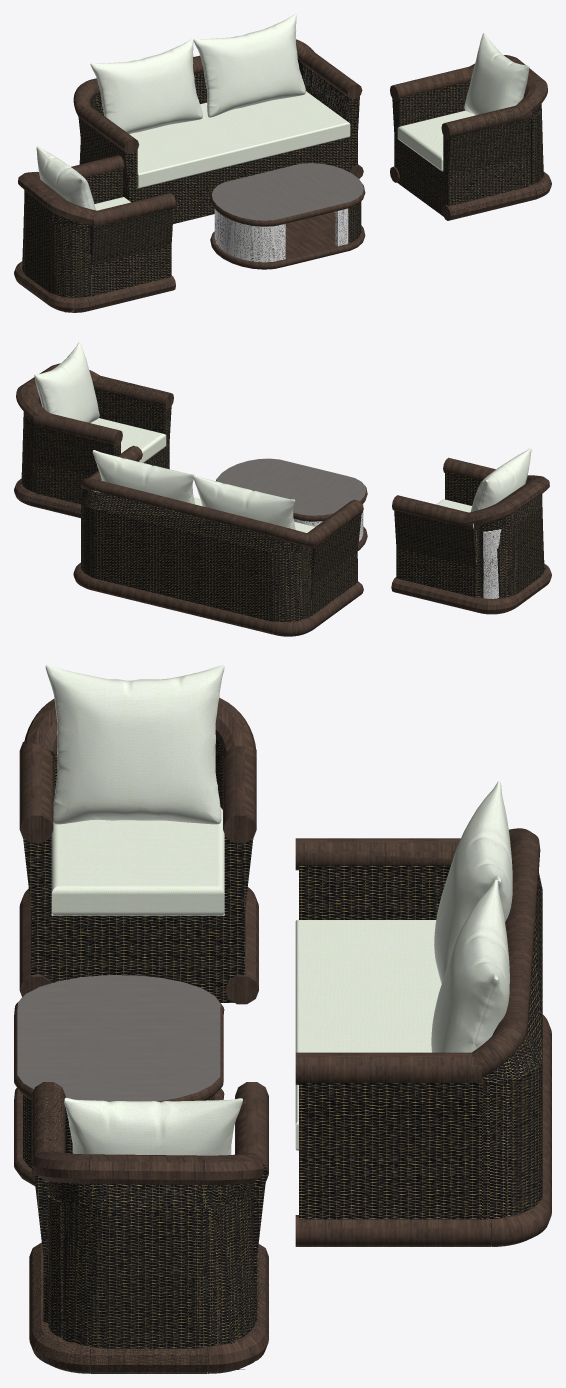
Rendered from furniture 9.dae.
The picture shows the model from 3 angles, top to bottom: view 1: azimuth 30°, elevation 25°; view 2: azimuth 150°, elevation 25°; view 3: azimuth 270°, elevation 25°; orthographic projection. The views are drawn at different scales.
Visible parts, largest first — view 1: Component_4 (×4), group_7 (×6), group_9 (×4), group_1 (×3), Component_3, group_4 (×4), group_6, group_5, Component_2, group_8 (×2), group_10, group_3; view 2: group_1 (×2), group_7 (×5), group_9 (×5), Component_4 (×4), group_6, group_4, group_2 (×3), group_3 (×2), group_8 (×2), Component_2, group_10; view 3: group_1 (×3), Component_4 (×4), group_9 (×7), group_7 (×4), group_6, group_4 (×2), Component_3, Component_2, group_2 (×3), group_10 (×3), group_3 (×2), group_8 (×2) (+1 smaller).
Boxes of the visible parts, box(x1,y1,x2,y2) form: Component_4 (×4): box(36, 14, 529, 210); group_7 (×6): box(14, 155, 175, 312); group_9 (×4): box(390, 66, 551, 220); group_1 (×3): box(77, 51, 362, 223); Component_3: box(129, 91, 350, 188); group_4 (×4): box(212, 163, 363, 262); group_6: box(210, 163, 365, 226); group_5: box(210, 212, 365, 269); Component_2: box(397, 110, 474, 171); group_8 (×2): box(20, 177, 97, 224); group_10: box(516, 79, 547, 115); group_3: box(73, 79, 98, 113); group_1 (×2): box(81, 461, 363, 621); group_7 (×5): box(391, 457, 547, 614); group_9 (×5): box(20, 375, 173, 517); Component_4 (×4): box(34, 342, 531, 529); group_6: box(216, 459, 367, 521); group_4: box(216, 458, 365, 515); group_2 (×3): box(89, 577, 363, 636); group_3 (×2): box(95, 480, 316, 547); group_8 (×2): box(463, 480, 546, 526); Component_2: box(90, 418, 166, 462); group_10: box(16, 385, 48, 419); group_1 (×3): box(295, 838, 542, 1228); Component_4 (×4): box(45, 665, 512, 1155); group_9 (×7): box(29, 1082, 268, 1373); group_7 (×4): box(19, 738, 258, 1004); group_6: box(14, 975, 224, 1110); group_4 (×2): box(17, 975, 220, 1167); Component_3: box(295, 920, 441, 1150); Component_2: box(51, 807, 224, 915); group_2 (×3): box(295, 1022, 551, 1246); group_10 (×3): box(32, 1151, 264, 1184); group_3 (×2): box(468, 837, 540, 1078); group_8 (×2): box(24, 698, 256, 758).
Bounding box in the file's own units: 140 × 65.95 × 34.94.
Materials: 8 (5 with a texture image).
